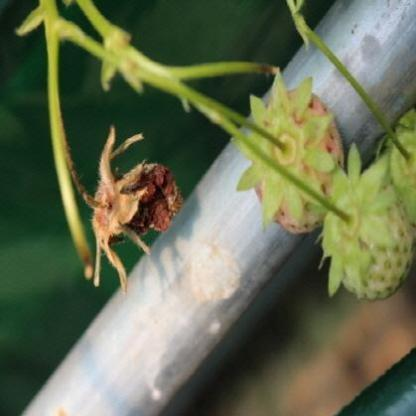Strawberry_Gray_Mold: (81, 126, 184, 296)
